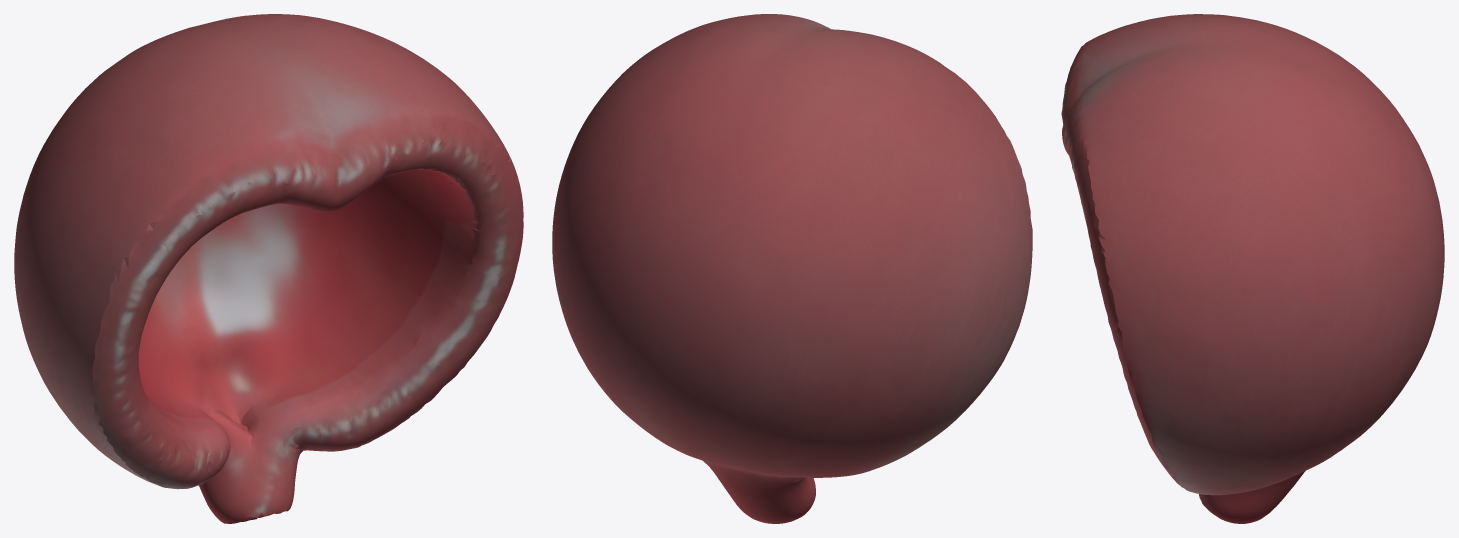
The model's file is dog_bladder.glb.
3 renders of one model, left to right at view 1: azimuth 30°, elevation 25°; view 2: azimuth 150°, elevation 25°; view 3: azimuth 270°, elevation 25°, orthographic. The views are drawn at different scales.
Parts seen in each view (by area): view 1: model; view 2: model; view 3: model.
Part boxes in pixels (left/top/right/bottom): model: left=14, top=14, right=523, bottom=523; model: left=552, top=14, right=1032, bottom=523; model: left=1061, top=14, right=1444, bottom=523.
Bounding box in the file's own units: 1.81 × 1.9 × 1.4.
1 material, 1 textured.
